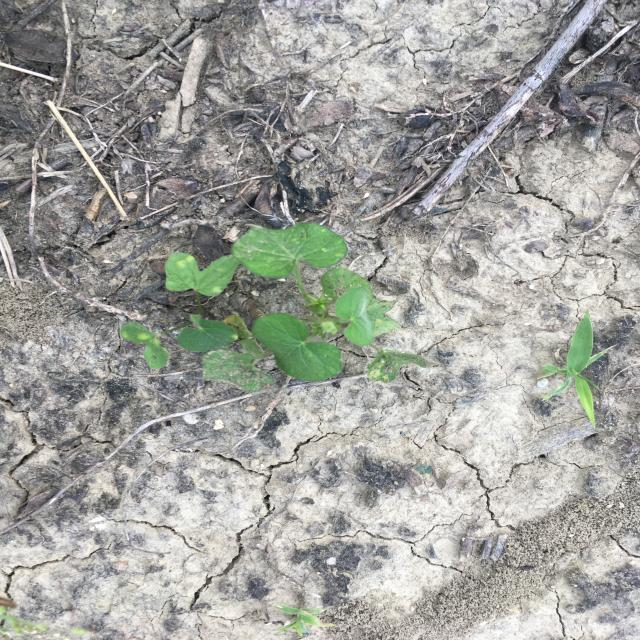MorningGlory: (119, 220, 442, 397)
